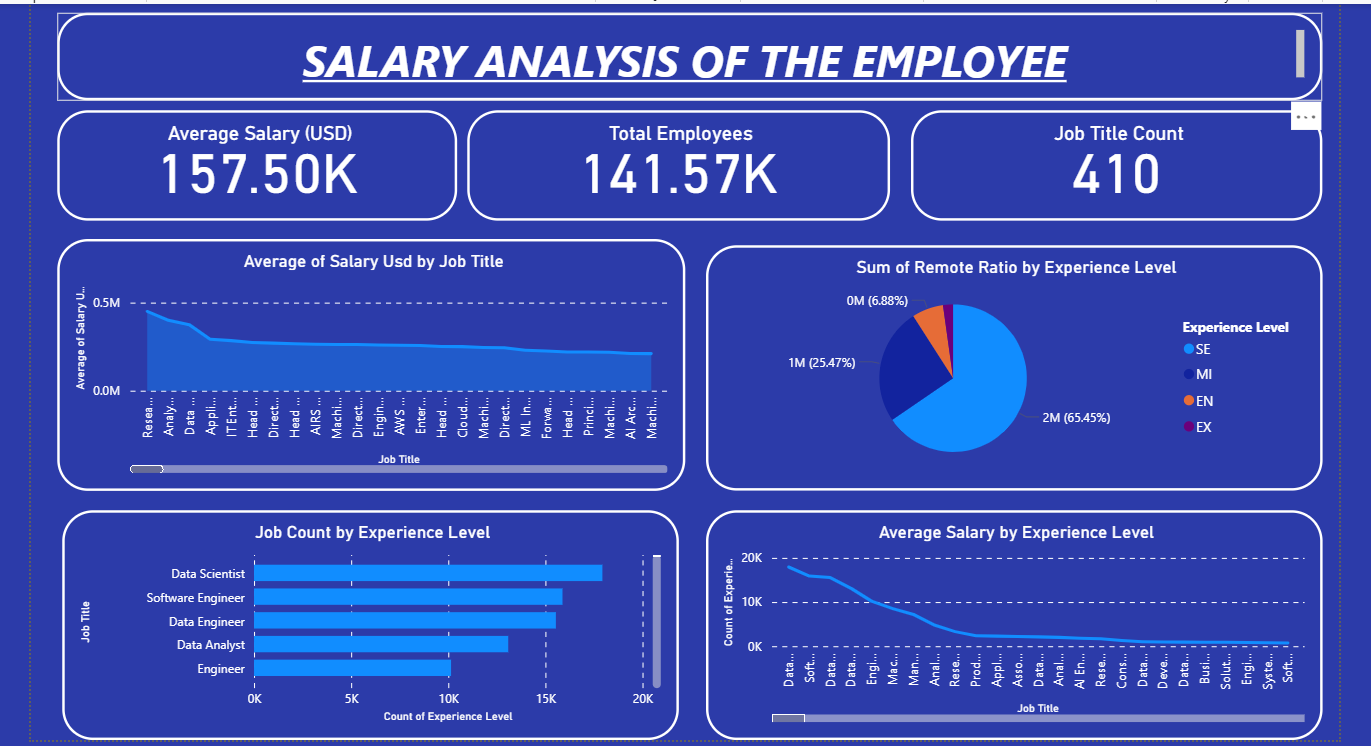

The dashboard page shown, as its layout file describes it:
{"tool":"powerbi","page":{"name":"Page 1","canvas":[1280,720],"ordinal":0},"visuals":[{"type":"textbox","box":[25.7,8.6,1237.5,85.6],"z":0},{"type":"card","title":"Average Salary (USD)","fields":{"Values":["Avg(in.Salary Usd)"]},"box":[25.7,103.9,391.3,107.6],"z":1000},{"type":"card","title":"Total Employees","fields":{"Values":["CountNonNull(in.Employment Type)"]},"box":[426.8,103.9,413.3,107.6],"z":2000},{"type":"areaChart","fields":{"Category":["in.Job Title"],"Y":["Avg(in.Salary Usd)"]},"box":[25.4,229.9,614.7,246.4],"z":3000},{"type":"pieChart","fields":{"Y":["Sum(in.Remote Ratio)"],"Category":["in.Experience Level"]},"box":[660.3,236,602.9,239.7],"z":4000},{"type":"clusteredBarChart","title":"Job Count by Experience Level","fields":{"Category":["in.Job Title"],"Y":["CountNonNull(in.Experience Level)"]},"box":[30.6,495.2,602.9,225],"z":5000},{"type":"lineChart","title":"Average Salary by Experience Level","fields":{"Category":["in.Job Title"],"Y":["CountNonNull(in.Experience Level)"]},"box":[660.3,495.2,602.9,225],"z":6000},{"type":"card","title":"Job Title Count","fields":{"Values":["Count(in.Job Title)"]},"box":[860.9,103.9,402.3,107.6],"z":7000}]}

Visuals, with their boxes in screenshot pixels (x1, y1, x2, y2):
textbox: box(55, 9, 1320, 96)
"Average Salary (USD)" card: box(55, 106, 455, 216)
"Total Employees" card: box(465, 106, 887, 216)
areaChart - in.Job Title x Avg(in.Salary Usd): box(55, 235, 683, 487)
pieChart - Sum(in.Remote Ratio) x in.Experience Level: box(703, 241, 1320, 486)
"Job Count by Experience Level" clusteredBarChart: box(60, 506, 676, 736)
"Average Salary by Experience Level" lineChart: box(703, 506, 1320, 736)
"Job Title Count" card: box(908, 106, 1320, 216)
